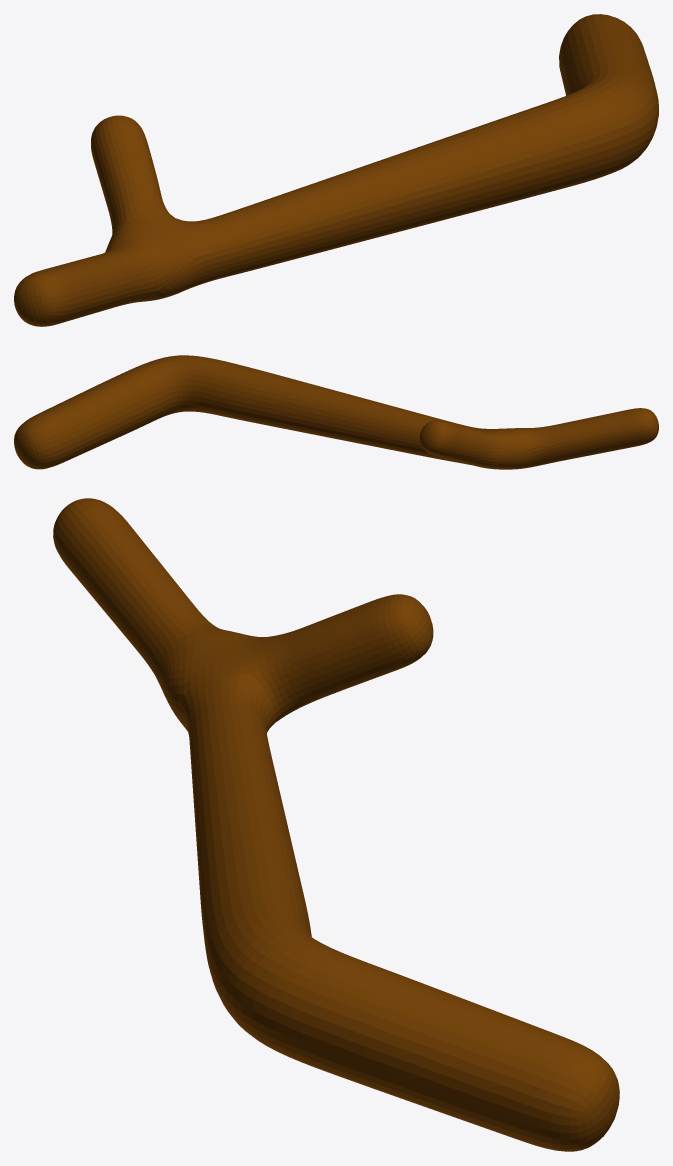
File: shuzhi.fbx
3 renders of one model, top to bottom at view 1: azimuth 30°, elevation 25°; view 2: azimuth 150°, elevation 25°; view 3: azimuth 270°, elevation 25°, orthographic. The views are drawn at different scales.
Visible parts, largest first — view 1: 平面.042; view 2: 平面.042; view 3: 平面.042.
Boxes of the visible parts, bbox=[...] form: 平面.042: bbox=[14, 14, 658, 326]; 平面.042: bbox=[14, 355, 658, 469]; 平面.042: bbox=[53, 498, 619, 1151].
Bounding box in the file's own units: 413 × 76.61 × 195.
